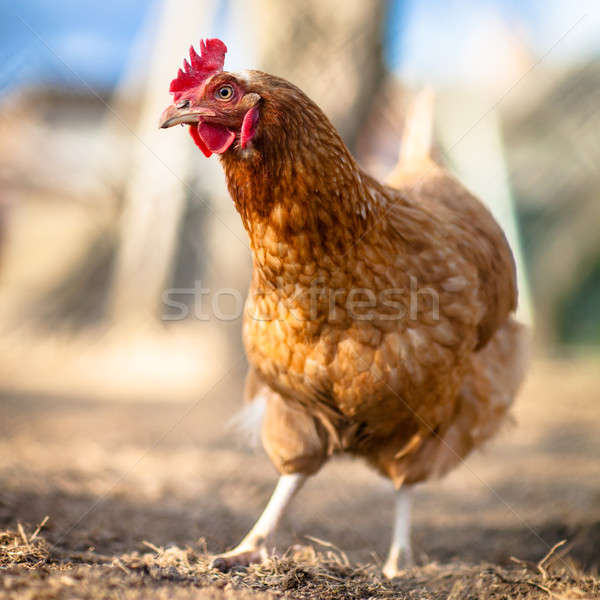chicken: (157, 36, 535, 587)
